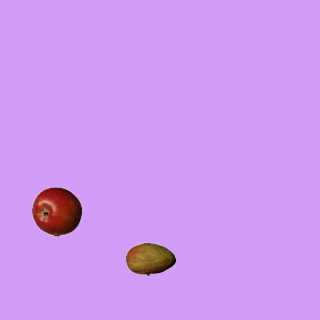Apple Braeburn: (31, 186, 81, 236)
Papaya: (125, 234, 175, 284)
